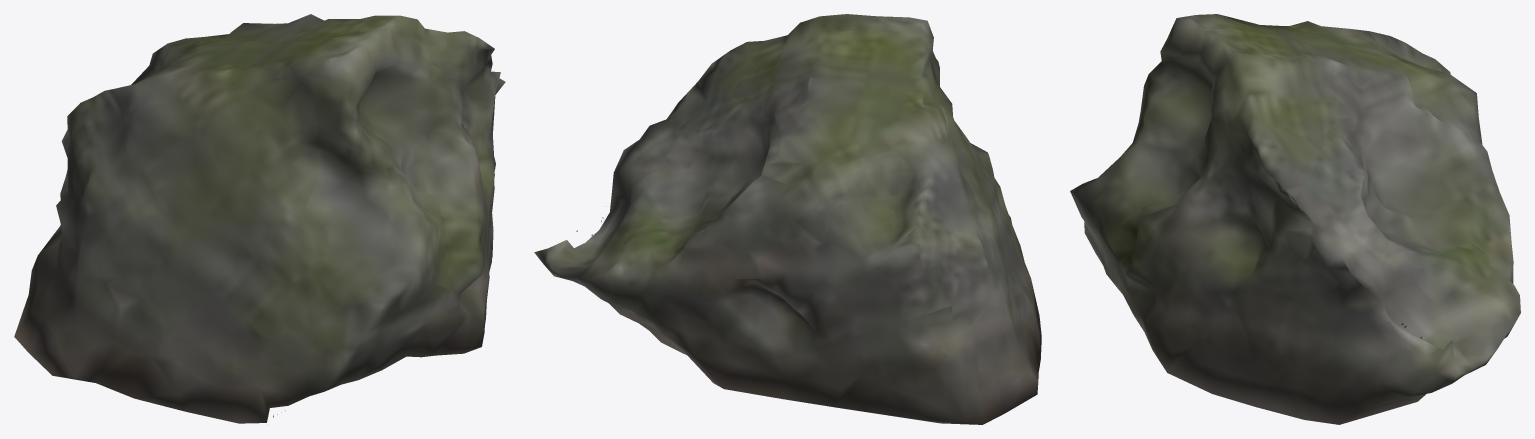
The model's file is kamen_maly_5.glb.
3 renders of one model, left to right at view 1: azimuth 30°, elevation 25°; view 2: azimuth 150°, elevation 25°; view 3: azimuth 270°, elevation 25°, orthographic. The views are drawn at different scales.
Visible parts, largest first — view 1: kamen_maly_5; view 2: kamen_maly_5; view 3: kamen_maly_5.
Part boxes in pixels (x1,y1,x2,y2): kamen_maly_5: (14, 14, 505, 423); kamen_maly_5: (534, 14, 1041, 424); kamen_maly_5: (1070, 14, 1520, 424).
Size of the model in its own units: 0.2681 by 0.1688 by 0.2172.
Materials: 1 (1 with a texture image).
